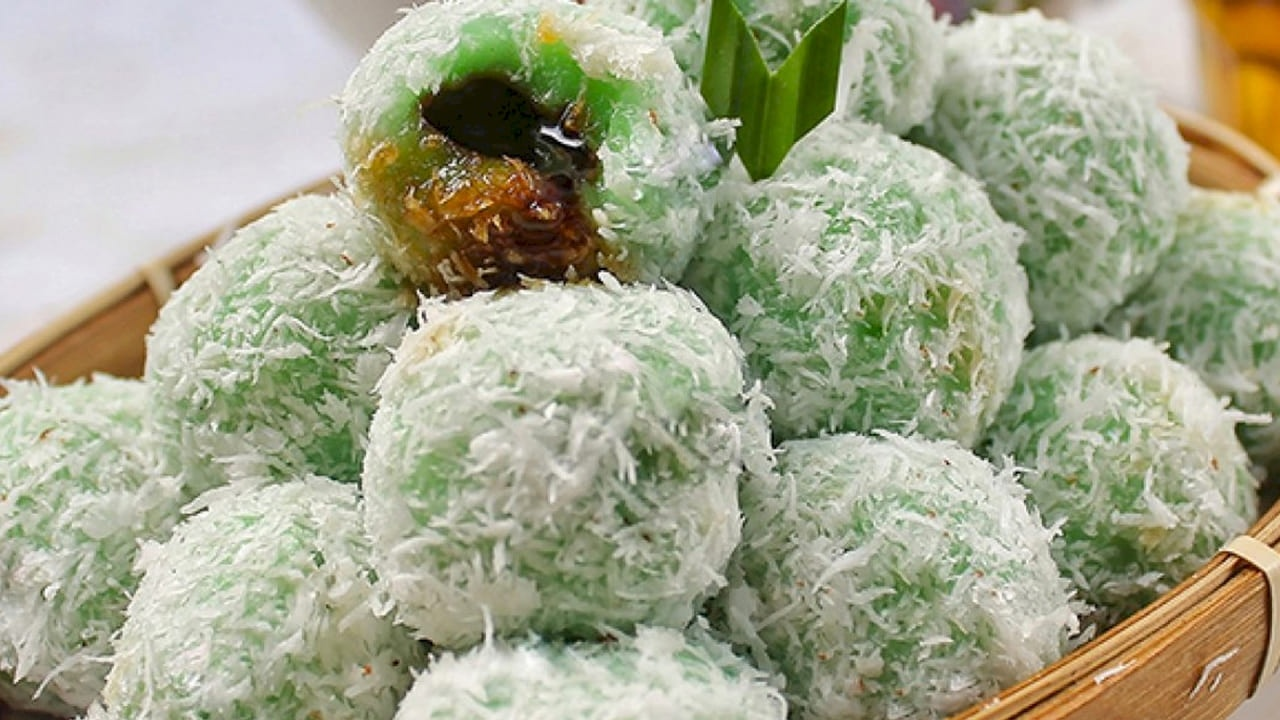klepon: (359, 297, 762, 638), (269, 5, 731, 282)
